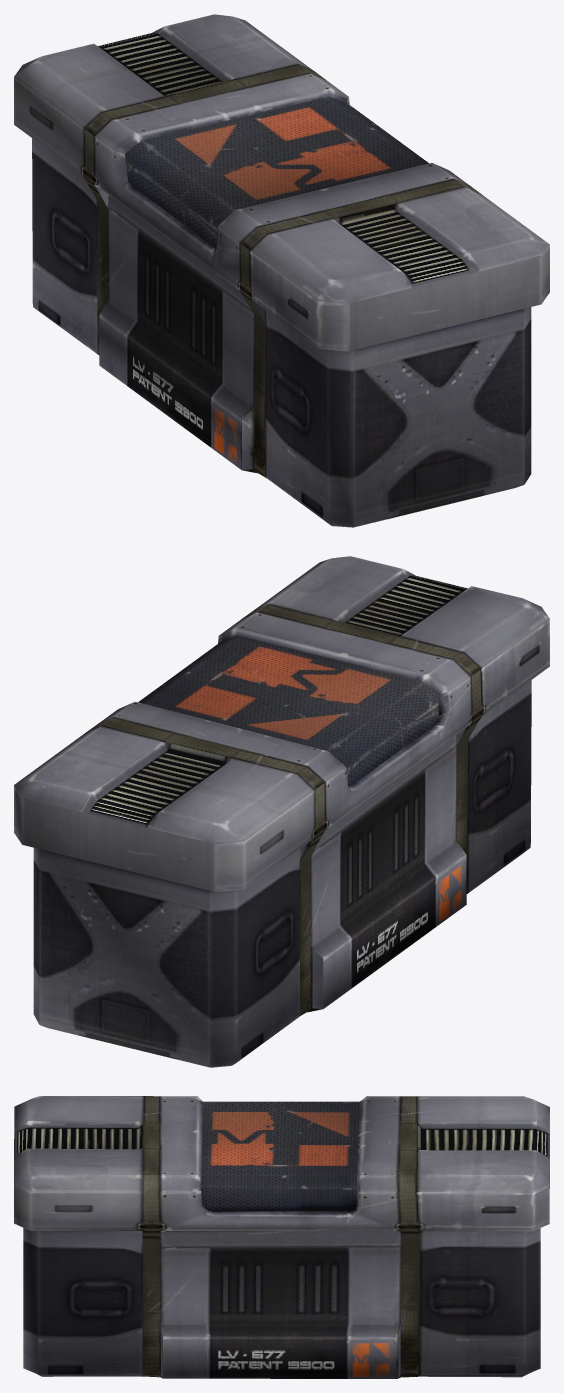
Rendered from Crate02_M.FBX.
The picture shows the model from 3 angles, top to bottom: view 1: azimuth 30°, elevation 25°; view 2: azimuth 150°, elevation 25°; view 3: azimuth 270°, elevation 25°; orthographic projection. The views are drawn at different scales.
Visible parts, largest first — view 1: Crate02_M; view 2: Crate02_M; view 3: Crate02_M.
Part boxes in pixels (<box>): Crate02_M: <box>14,14,549,527</box>; Crate02_M: <box>14,556,549,1067</box>; Crate02_M: <box>14,1096,549,1378</box>.
Bounding box in the file's own units: 0.4921 × 0.5007 × 1.2.
